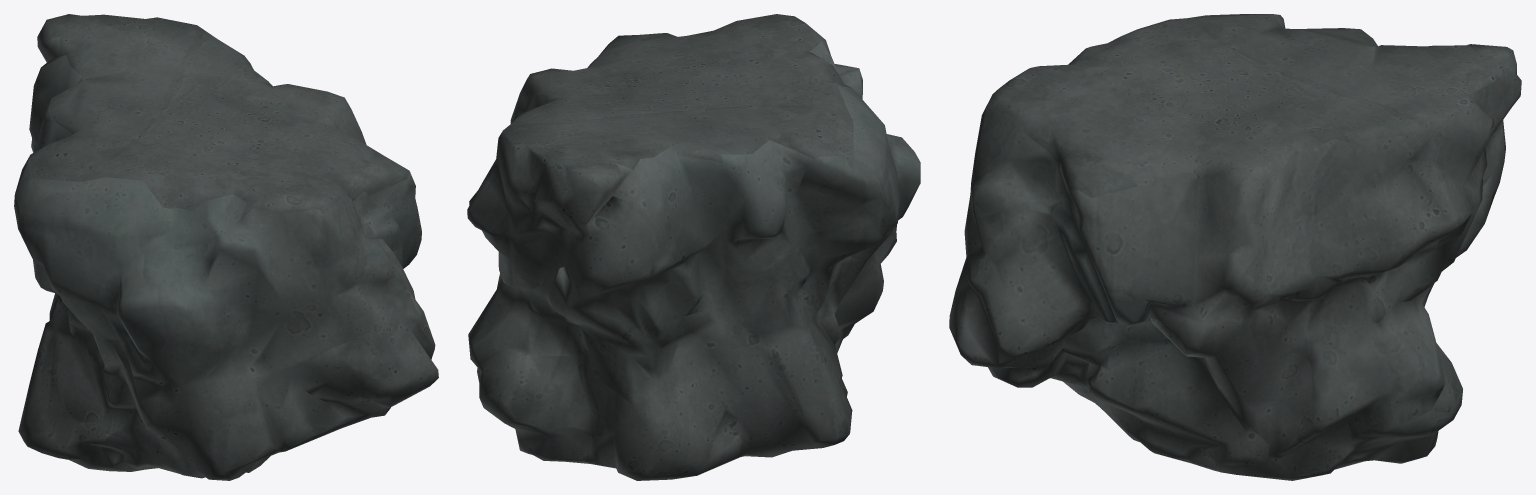
The model's file is Cliff_Glitter03.fbx.
3 views of the same model, side by side, from view 1: azimuth 30°, elevation 25°; view 2: azimuth 150°, elevation 25°; view 3: azimuth 270°, elevation 25° (orthographic). The views are drawn at different scales.
Parts seen in each view (by area): view 1: SM_Cliff_Rock_Glitter3.mo; view 2: SM_Cliff_Rock_Glitter3.mo; view 3: SM_Cliff_Rock_Glitter3.mo.
Boxes of the visible parts, x1,y1,x2,y2 form: SM_Cliff_Rock_Glitter3.mo: [14, 14, 438, 480]; SM_Cliff_Rock_Glitter3.mo: [467, 14, 920, 480]; SM_Cliff_Rock_Glitter3.mo: [949, 14, 1521, 480].
Size of the model in its own units: 784 by 690 by 977.
